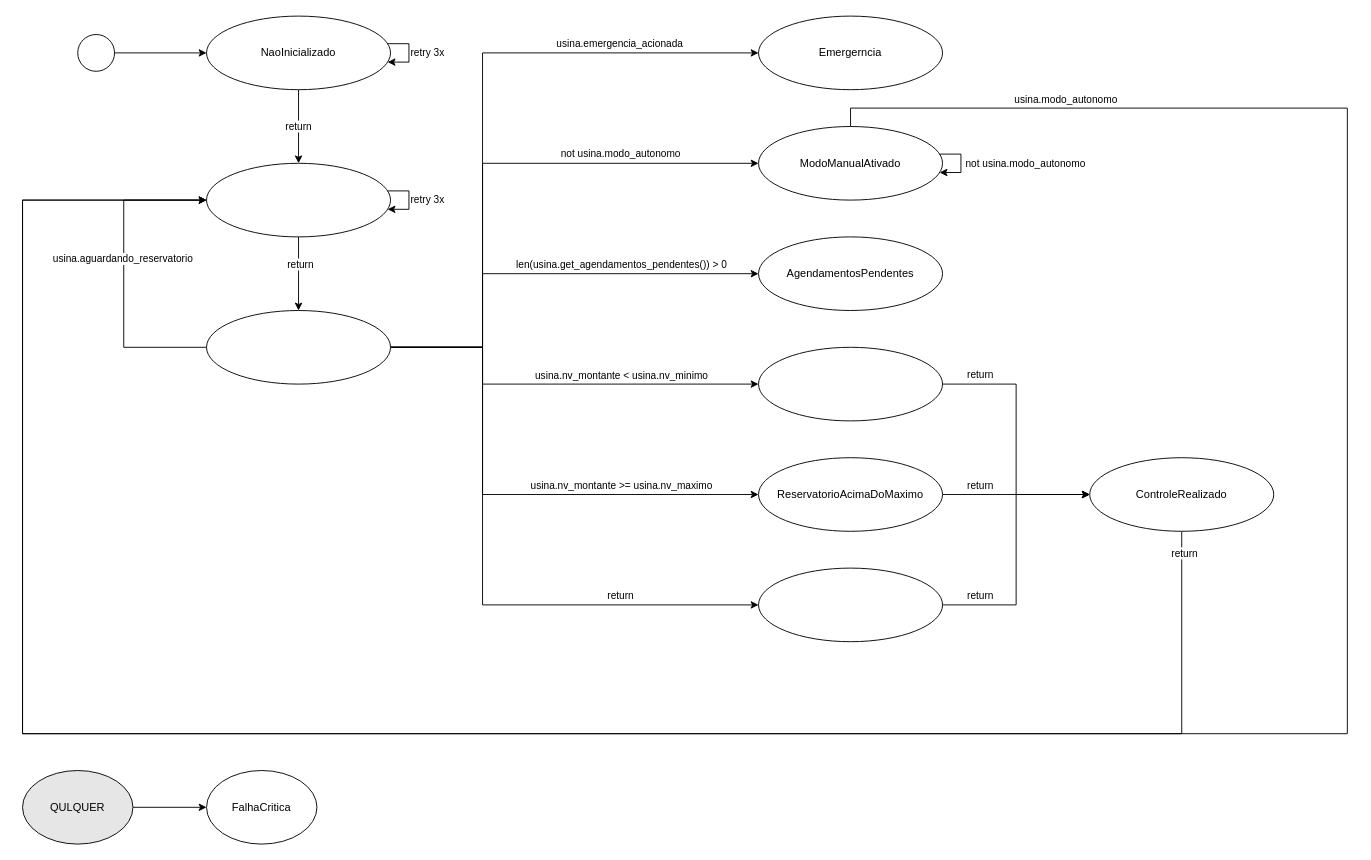
The diagram is 1371 pixels wide and 860 high, and some of its shapes have lost their labels. The centre of each missing label's shape, as x and y in pixels:
Pronto: pixel 298 199
ReservatorioAbaixoDoMinimo: pixel 850 383
ReservatorioNormal: pixel 850 604
ValoresInternosAtualizados: pixel 298 347
